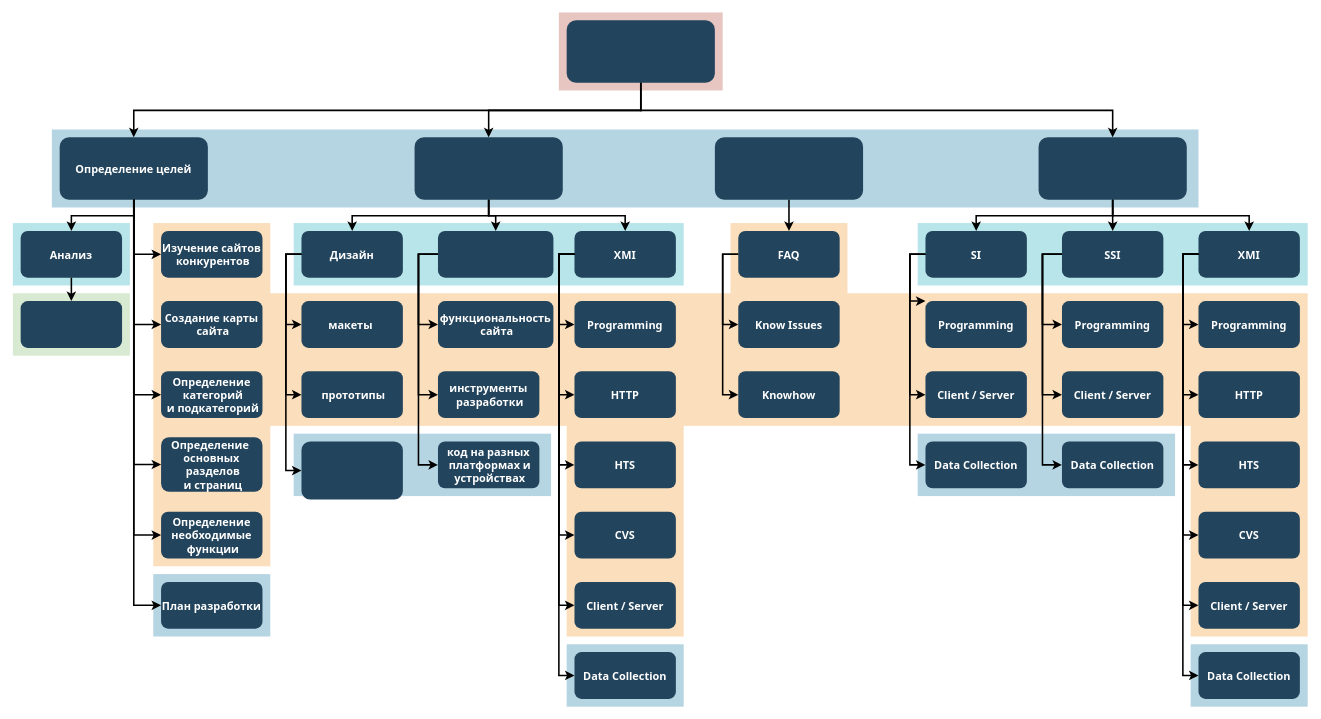
Image size: 1321x719. Some labels were removed from this diagram. The box of each missing label's shape, as (x1, y1, x2, y2) in pixels:
Training Department: (1038, 137, 1186, 199)
Определение цветовой гаммы и шрифтов: (301, 441, 402, 499)
Планирование: (20, 301, 122, 347)
Поддержка: (714, 137, 863, 199)
Программирование: (438, 230, 553, 277)
Разработка: (414, 137, 562, 199)
Разработка Web-сайта: (566, 20, 714, 82)
